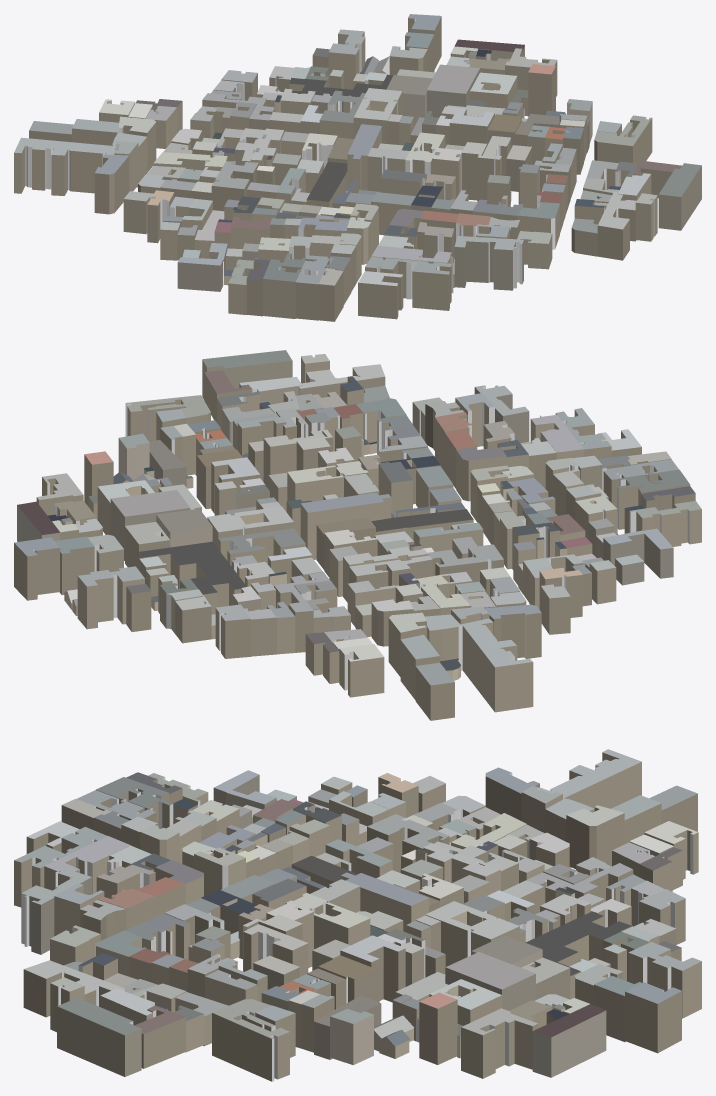
3 views of the same model, one above another, from view 1: azimuth 30°, elevation 25°; view 2: azimuth 150°, elevation 25°; view 3: azimuth 270°, elevation 25° (orthographic). The views are drawn at different scales.
Parts seen in each view (by area): view 1: tuile; view 2: tuile; view 3: tuile.
Boxes of the visible parts, bbox=[...] form: tuile: bbox=[14, 14, 701, 321]; tuile: bbox=[14, 350, 701, 720]; tuile: bbox=[14, 749, 701, 1081].
Bounding box in the file's own units: 293 × 34.49 × 280.
